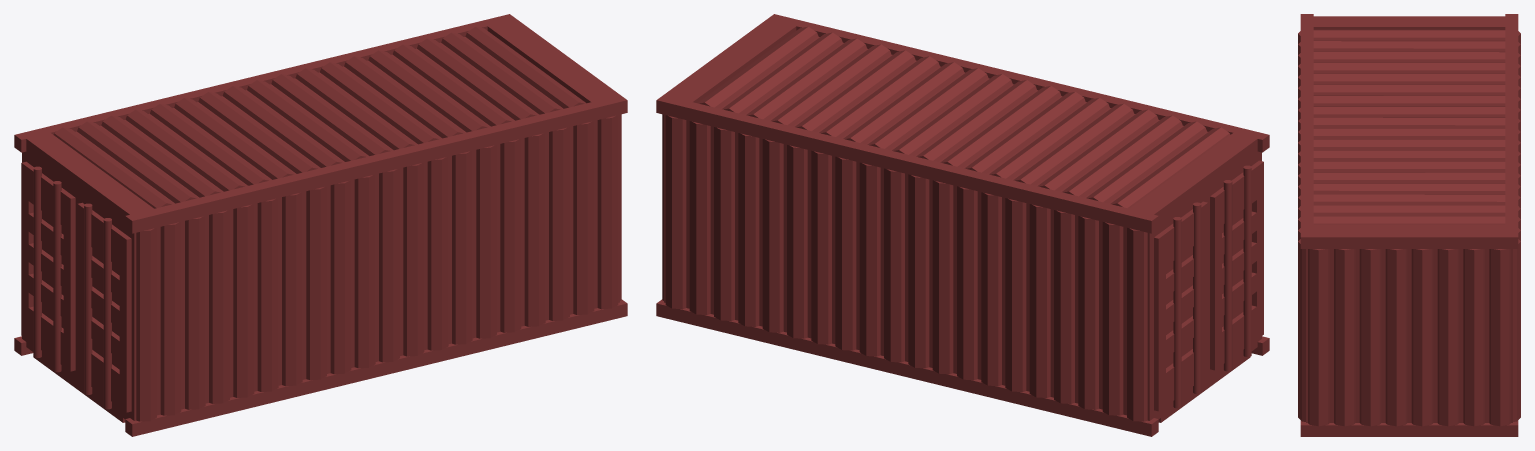
Rendered from Container.fbx.
3 views of the same model, side by side, from view 1: azimuth 30°, elevation 25°; view 2: azimuth 150°, elevation 25°; view 3: azimuth 270°, elevation 25° (orthographic). The views are drawn at different scales.
Parts seen in each view (by area): view 1: Container; view 2: Container; view 3: Container.
Boxes of the visible parts, bbox=[...] form: Container: bbox=[14, 14, 627, 436]; Container: bbox=[656, 14, 1269, 436]; Container: bbox=[1298, 14, 1520, 436].
Bounding box in the file's own units: 723 × 300 × 300.
Materials: 1 (1 with a texture image).
